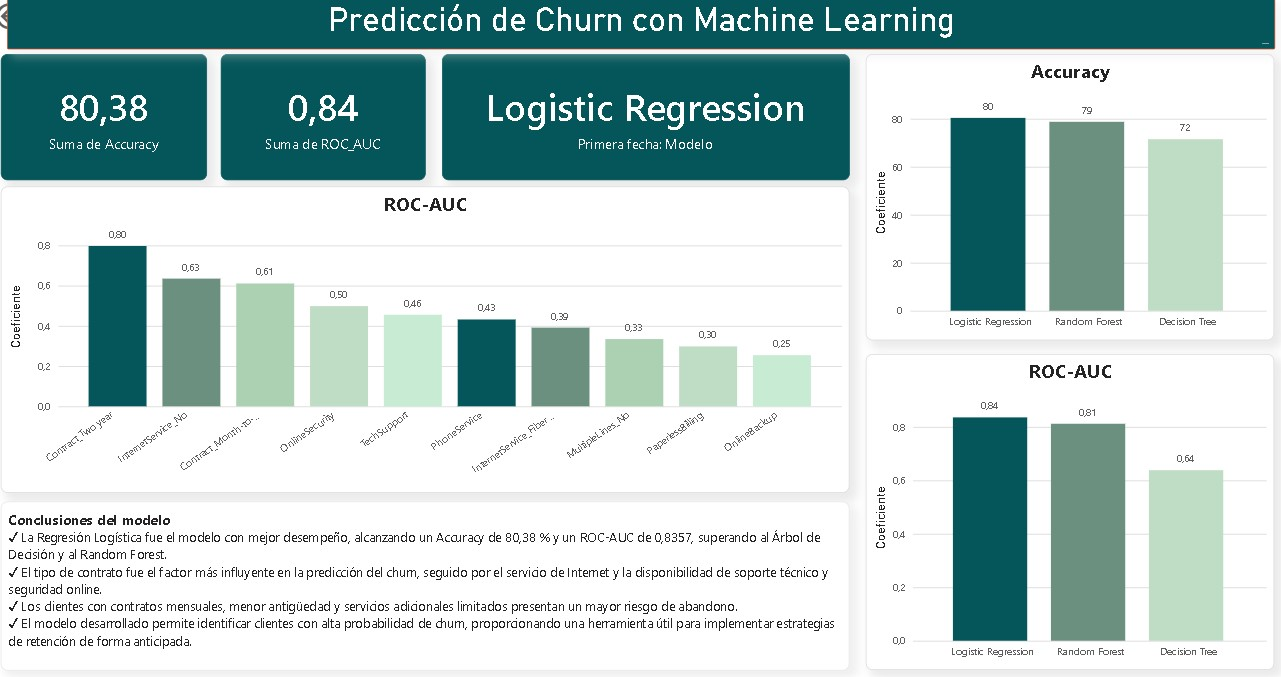

What the dashboard file says about the page in this screenshot:
{"tool":"powerbi","page":{"name":"Página 3","canvas":[1500,790],"ordinal":2},"visuals":[{"type":"actionButton","box":[0,0,100,40],"z":4000},{"type":"cardVisual","fields":{"Data":["Sum(Tabla (2).Accuracy)"]},"box":[10.1,63.8,239.1,146.4],"z":5001},{"type":"cardVisual","fields":{"Data":["Sum(Tabla (2).ROC_AUC)"]},"box":[265.2,63.8,237.7,146.4],"z":5002},{"type":"cardVisual","fields":{"Data":["Min(Tabla (2).Modelo)"]},"box":[521.7,63.8,472.5,146.4],"z":5004},{"type":"clusteredColumnChart","title":"Accuracy","fields":{"Category":["Tabla.Modelo"],"Y":["Sum(Tabla.Accuracy)"]},"box":[1013,63.8,473.9,331.9],"z":5005},{"type":"clusteredColumnChart","title":"ROC-AUC","fields":{"Category":["Tabla.Modelo"],"Y":["Sum(Tabla.ROC-AUC)"]},"box":[1013,411.6,473.9,366.7],"z":5006},{"type":"clusteredColumnChart","title":"ROC-AUC","fields":{"Category":["feature_importance_top10.Variable"],"Y":["Sum(feature_importance_top10.Importancia)"]},"box":[10.1,217.4,984.1,355.1],"z":5007},{"type":"textbox","box":[10.1,582.6,984.1,195.7],"z":5008},{"type":"textbox","title":"Predicción de Churn con Machine Learning","box":[10.1,0,1476.8,58],"z":5009}]}

Visuals, with their boxes in screenshot pixels (x1, y1, x2, y2), scaled from the page's 1500x790 canvas onto the 1281x677 screenshot:
actionButton: bbox=(0, 0, 85, 34)
cardVisual - Sum(Tabla (2).Accuracy): bbox=(9, 55, 213, 180)
cardVisual - Sum(Tabla (2).ROC_AUC): bbox=(226, 55, 429, 180)
cardVisual - Min(Tabla (2).Modelo): bbox=(446, 55, 849, 180)
"Accuracy" clusteredColumnChart: bbox=(865, 55, 1270, 339)
"ROC-AUC" clusteredColumnChart: bbox=(865, 353, 1270, 667)
"ROC-AUC" clusteredColumnChart: bbox=(9, 186, 849, 491)
textbox: bbox=(9, 499, 849, 667)
"Predicción de Churn con Machine Learning" textbox: bbox=(9, 0, 1270, 50)
